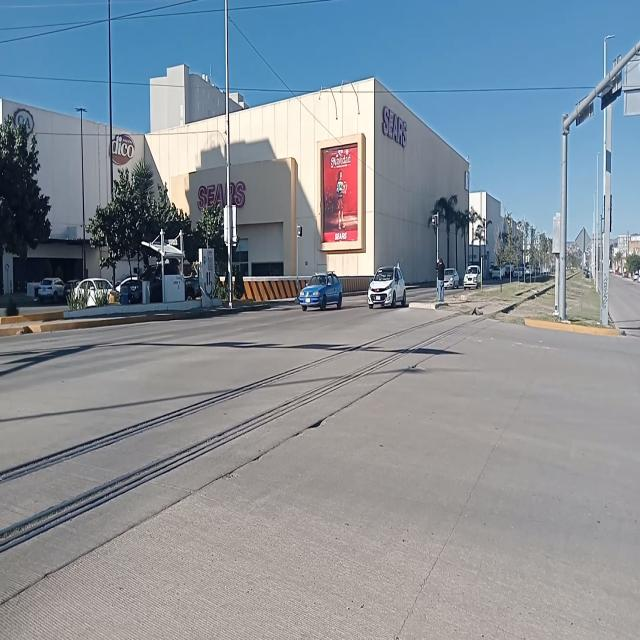Auto: (299, 269, 342, 316), (369, 265, 408, 314)
